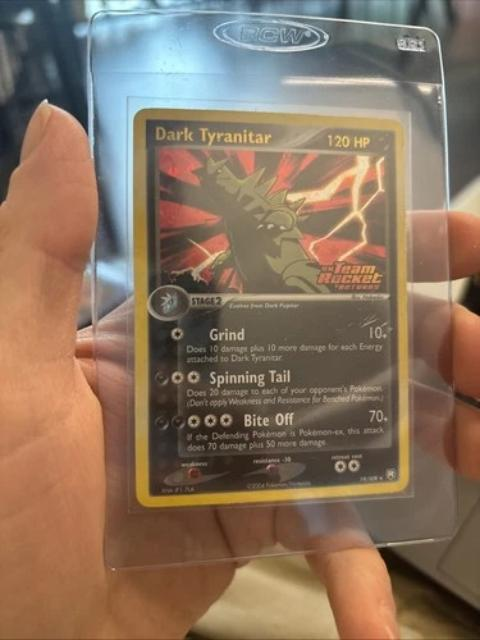Card: (128, 100, 413, 512)
Name: (150, 121, 277, 152)
